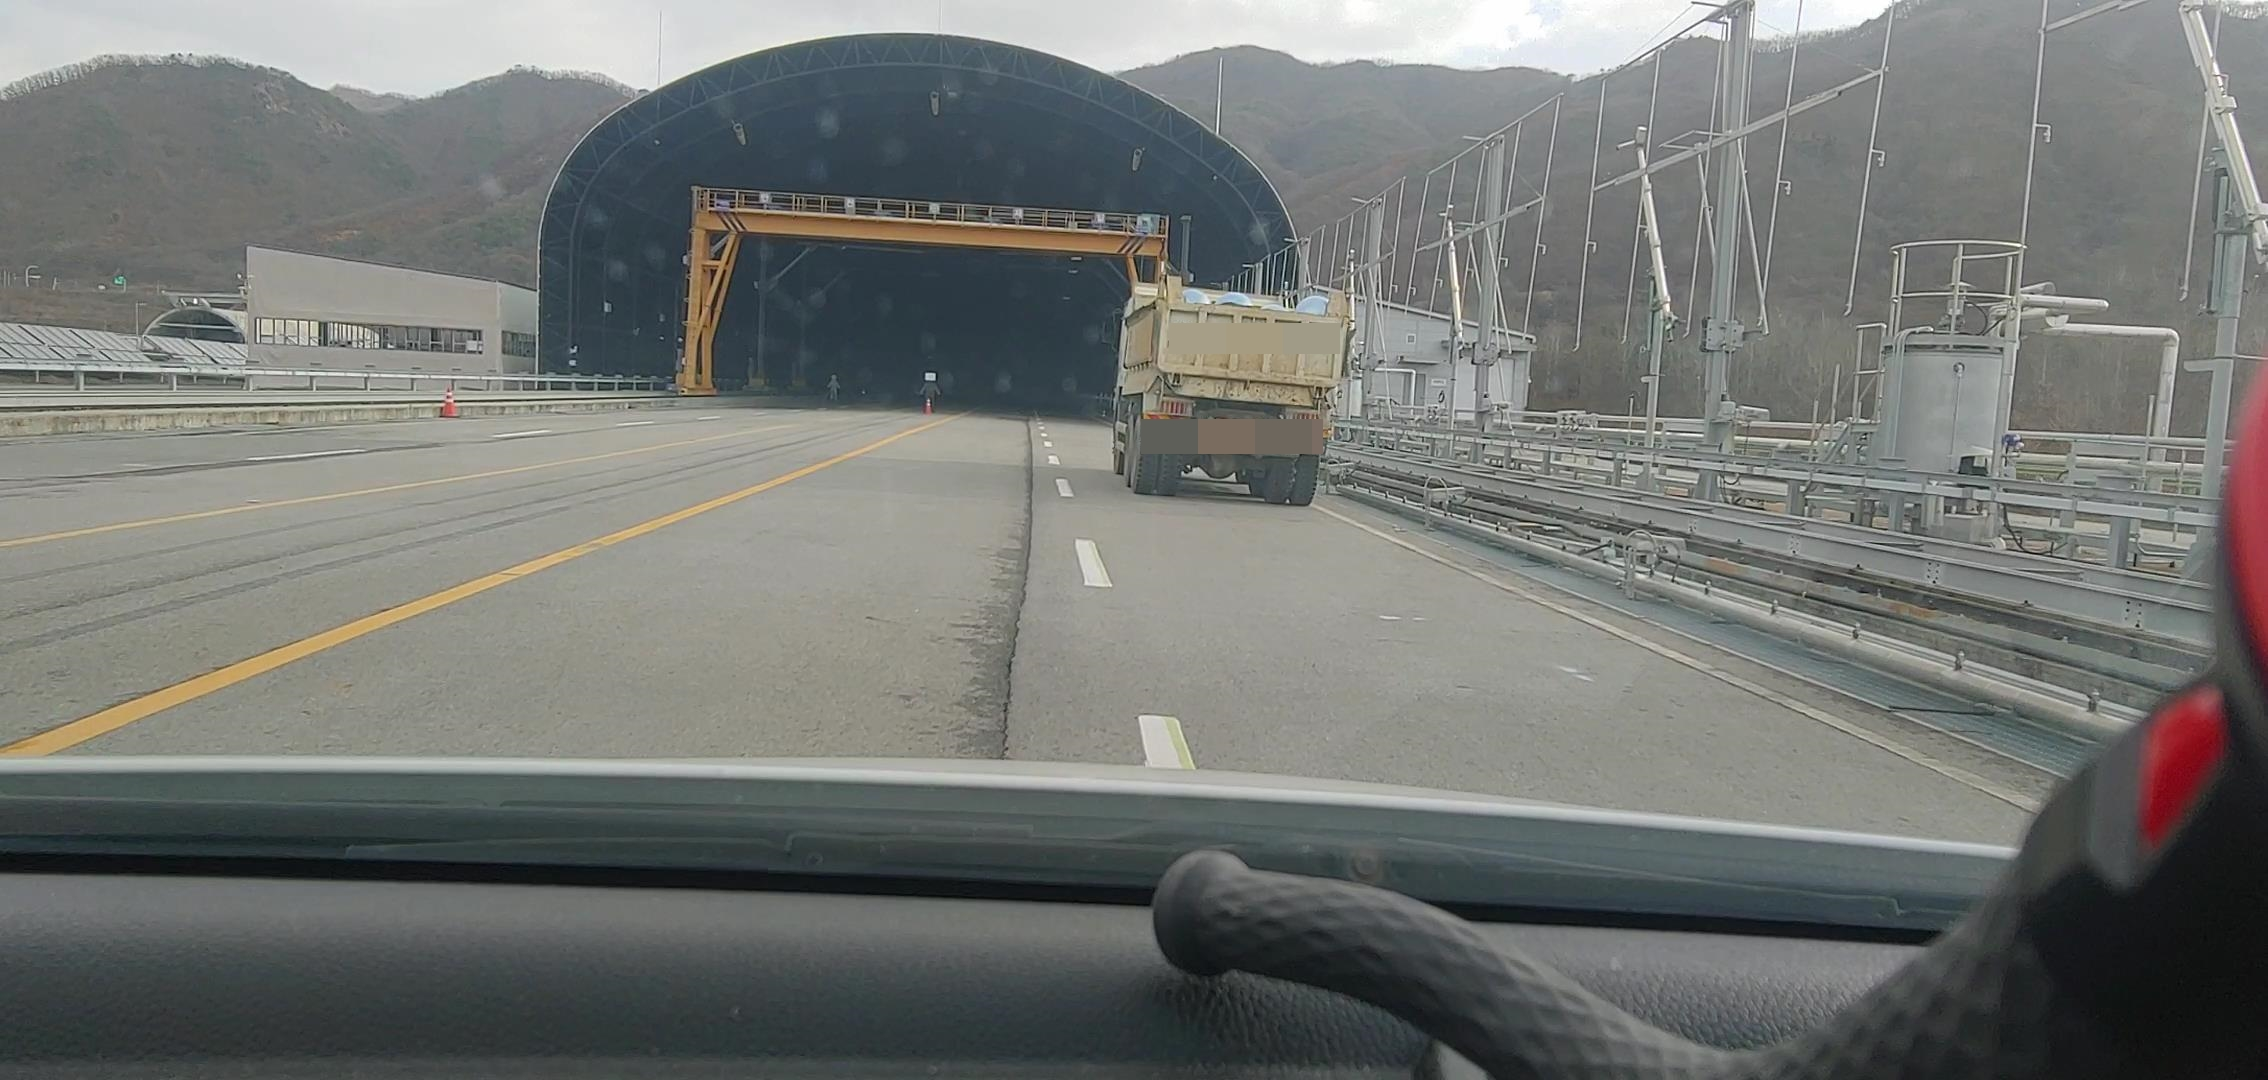불법차량: (1112, 275, 1358, 507)
